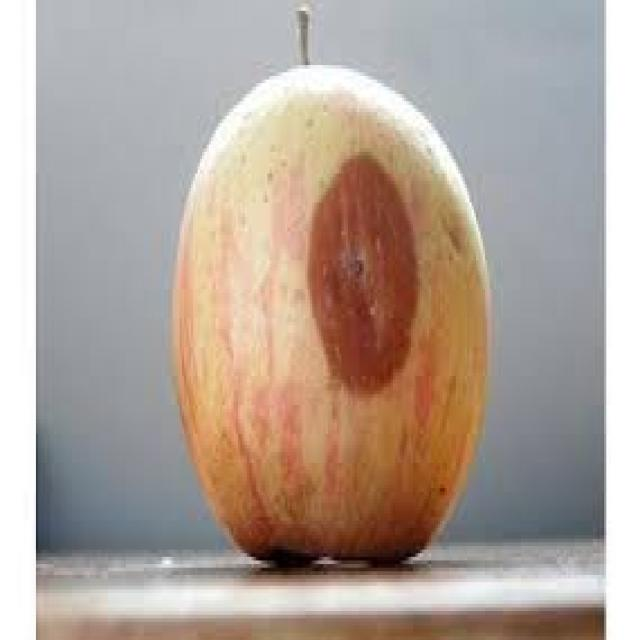organic waste: (164, 58, 489, 560)
